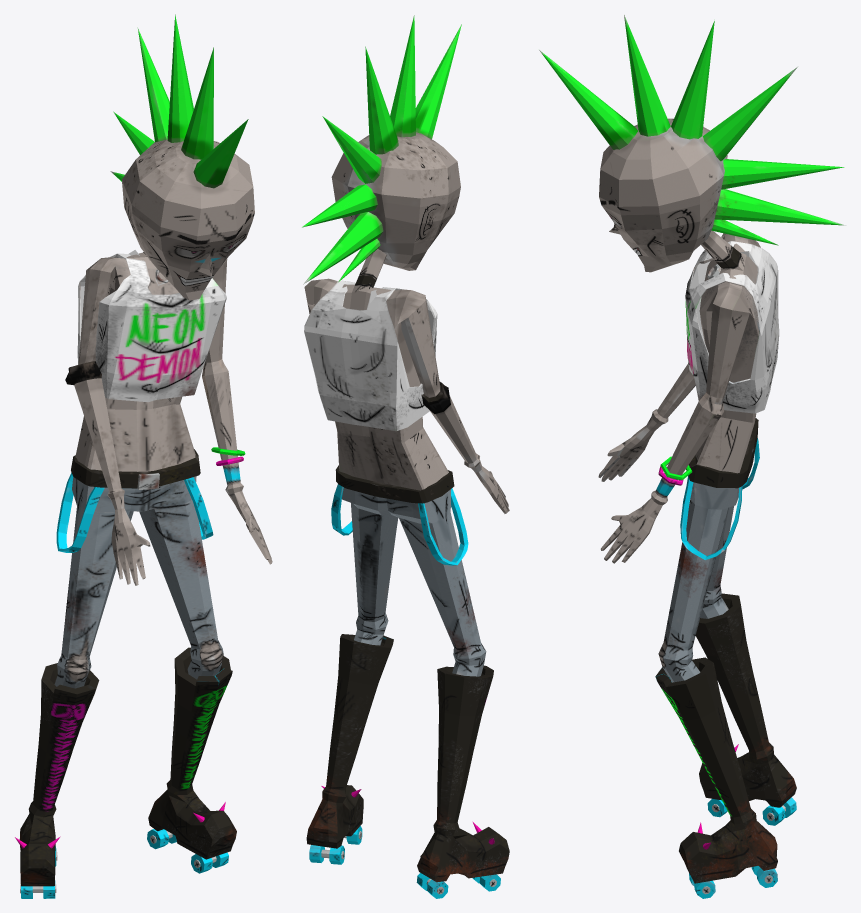
File: punkAnimation_000055.obj
3 views of the same model, side by side, from view 1: azimuth 30°, elevation 25°; view 2: azimuth 150°, elevation 25°; view 3: azimuth 270°, elevation 25° (orthographic). The views are drawn at different scales.
Visible parts, largest first — view 1: Cube.004_Cube.003; view 2: Cube.004_Cube.003; view 3: Cube.004_Cube.003.
Part boxes in pixels (x1,y1,x2,y2): Cube.004_Cube.003: (15, 14, 272, 898); Cube.004_Cube.003: (302, 15, 509, 898); Cube.004_Cube.003: (539, 15, 845, 898).
Size of the model in its own units: 1.9 by 7.42 by 2.41.
